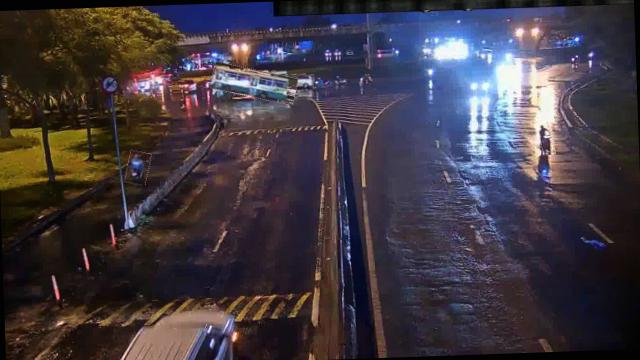Bike: (124, 151, 150, 186), (537, 122, 554, 156)
Bus: (211, 64, 298, 104)
Car: (290, 74, 314, 90)
